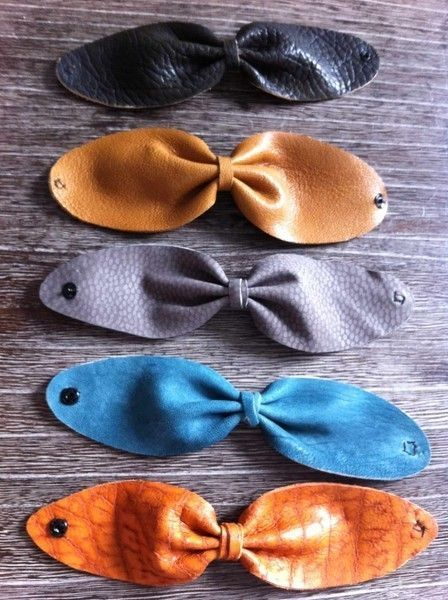cuero: (27, 18, 439, 589)
